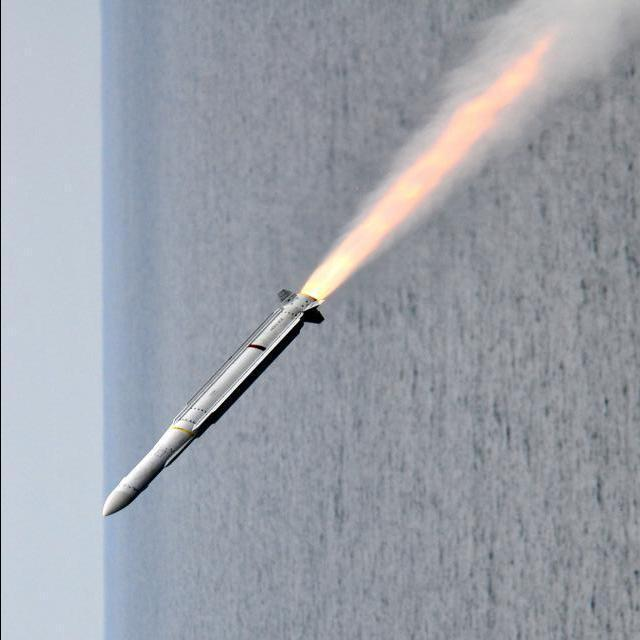missile: (99, 296, 337, 522)
